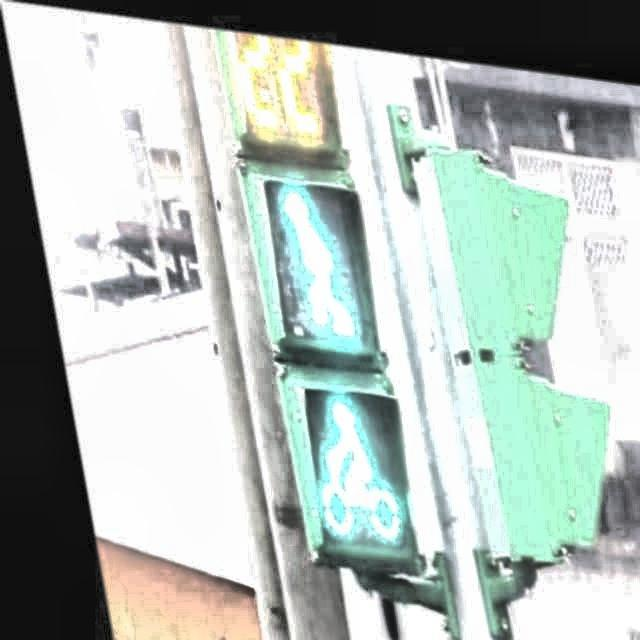semaforo pedestre: (155, 17, 462, 600)
